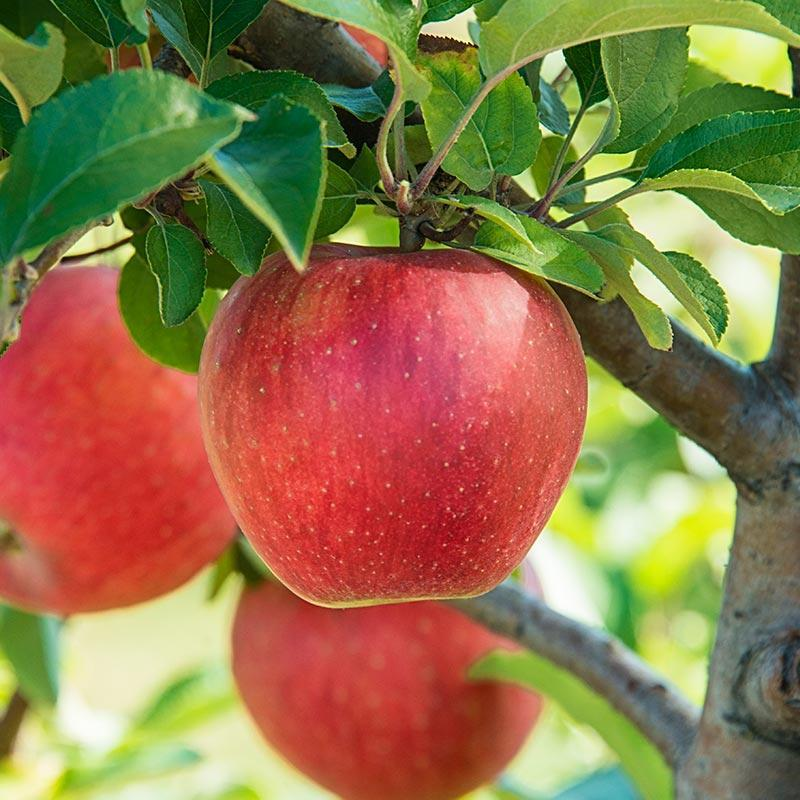apple: (197, 252, 587, 618), (1, 253, 235, 621), (231, 575, 547, 792)
